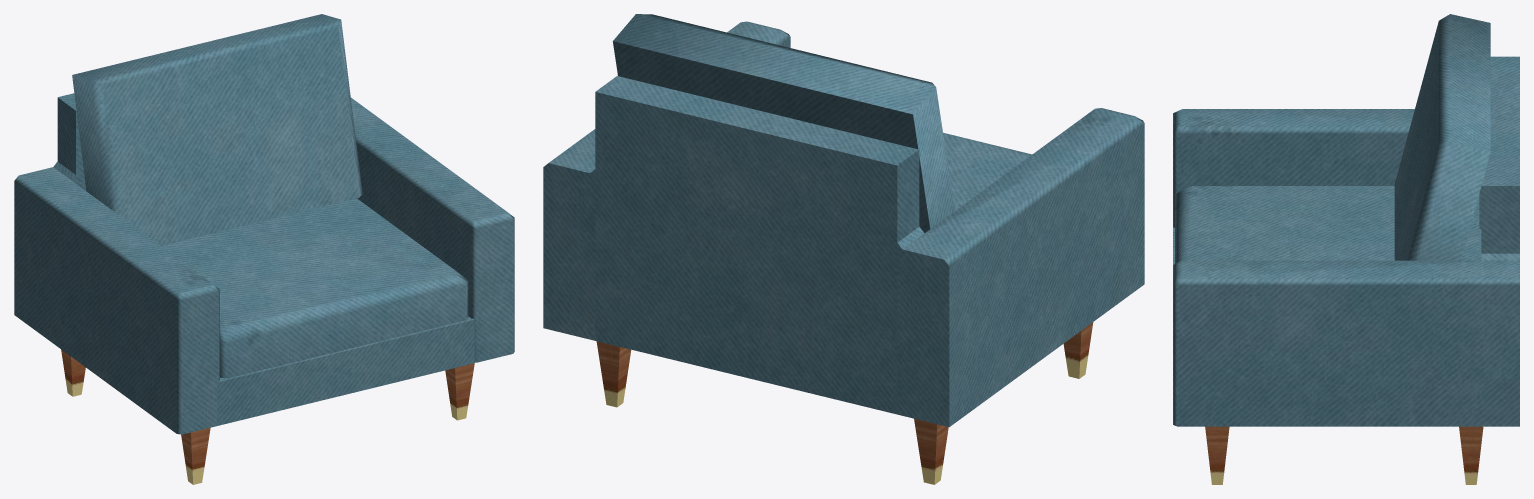
3 renders of one model, left to right at view 1: azimuth 30°, elevation 25°; view 2: azimuth 150°, elevation 25°; view 3: azimuth 270°, elevation 25°, orthographic. The views are drawn at different scales.
Visible parts, largest first — view 1: Armchair; view 2: Armchair; view 3: Armchair.
Part boxes in pixels (x1,y1,x2,y2): Armchair: (14, 14, 514, 484); Armchair: (543, 14, 1144, 484); Armchair: (1173, 14, 1519, 484).
Bounding box in the file's own units: 133 × 120 × 112.
1 material, 1 textured.
